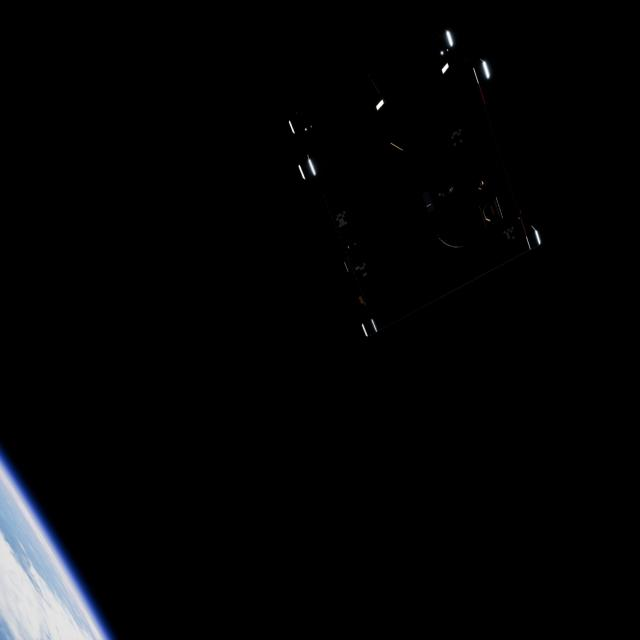medium_debris: (276, 27, 548, 344)
